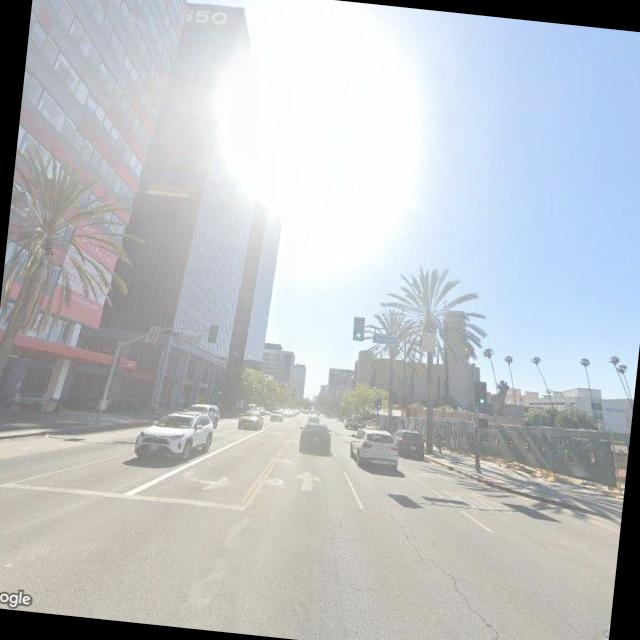pothole: (363, 499, 555, 640)
